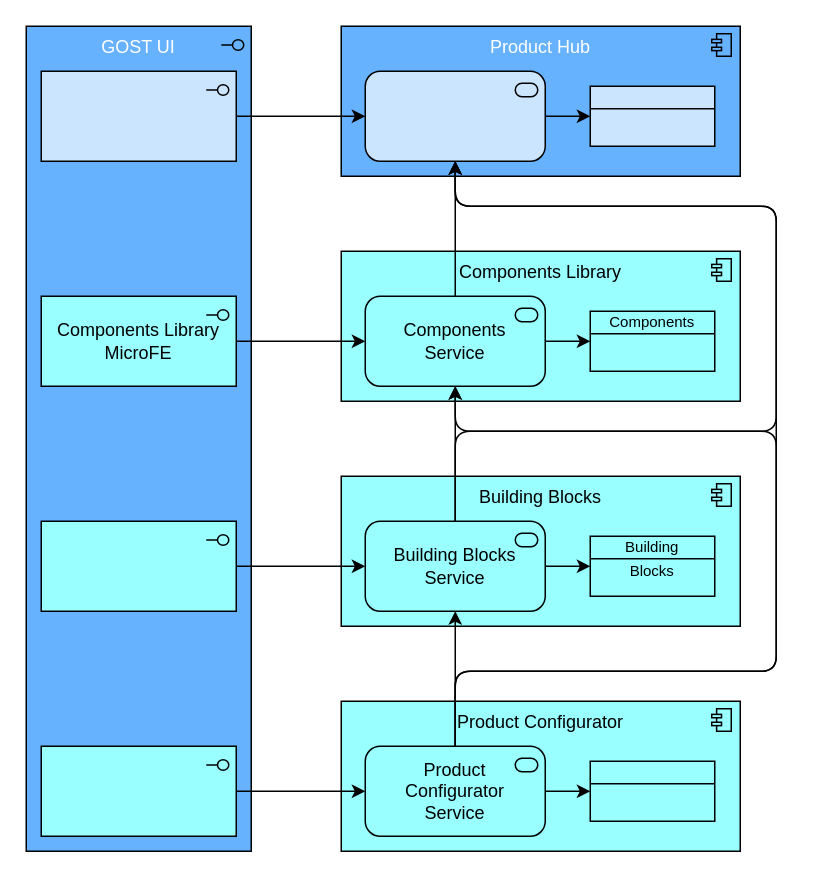
This 815x878 diagram has some shape labels left out. Each missing label, with the centre of its shape:
Building Blocks MicroFE: (138,565)
Product Configuration: (652,790)
Product Configuration MicroFE: (138,790)
Product Hub MicroFE: (138,115)
Product Hub Service: (454,115)
Product Versions: (652,115)
